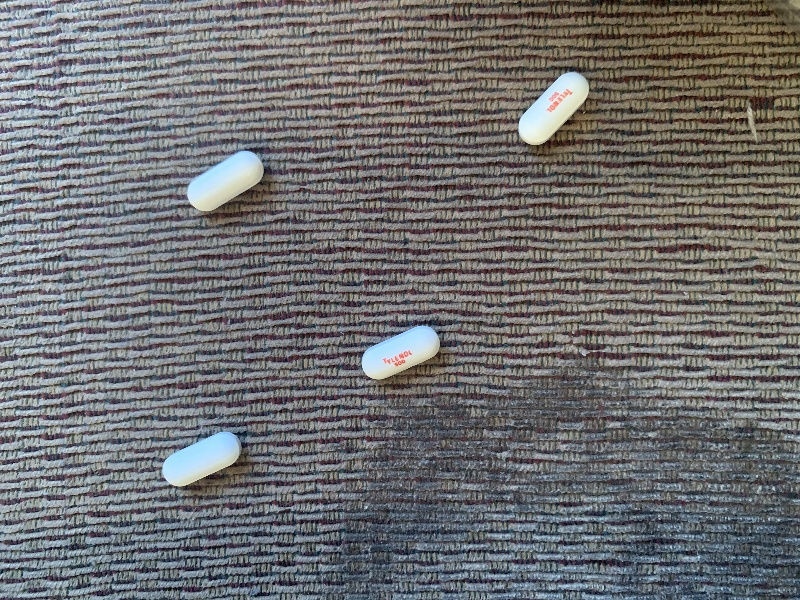Tylenol: (514, 66, 593, 148), (183, 145, 267, 216), (159, 430, 246, 491), (358, 325, 448, 382)
